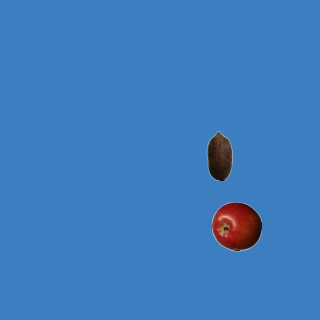Apple Braeburn: (211, 201, 261, 251)
Nut Pecan: (194, 130, 244, 180)
